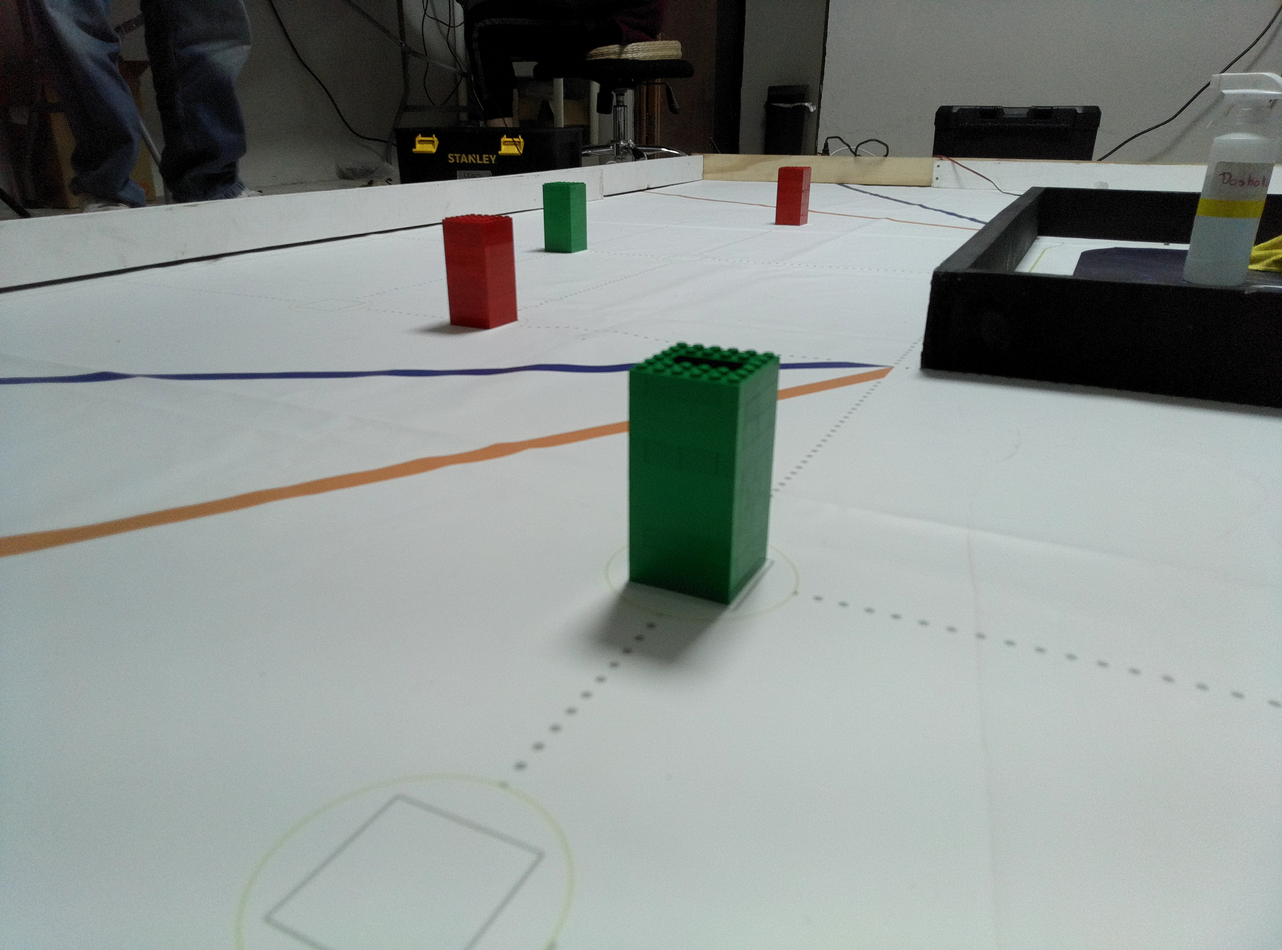greenbox: (626, 341, 782, 608), (541, 180, 590, 254)
redbox: (441, 210, 522, 332), (773, 165, 814, 227)
